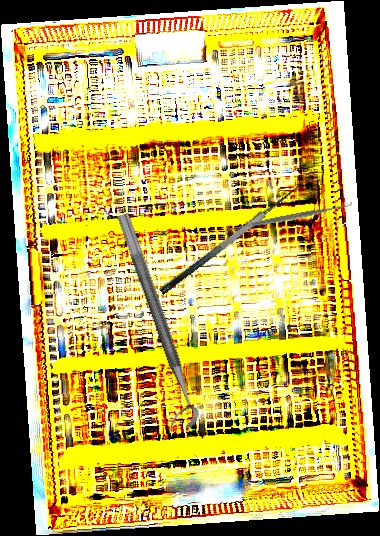Fixation Ring: (98, 212, 203, 434)
Spatula Surgical: (149, 172, 308, 296), (222, 198, 355, 238)
